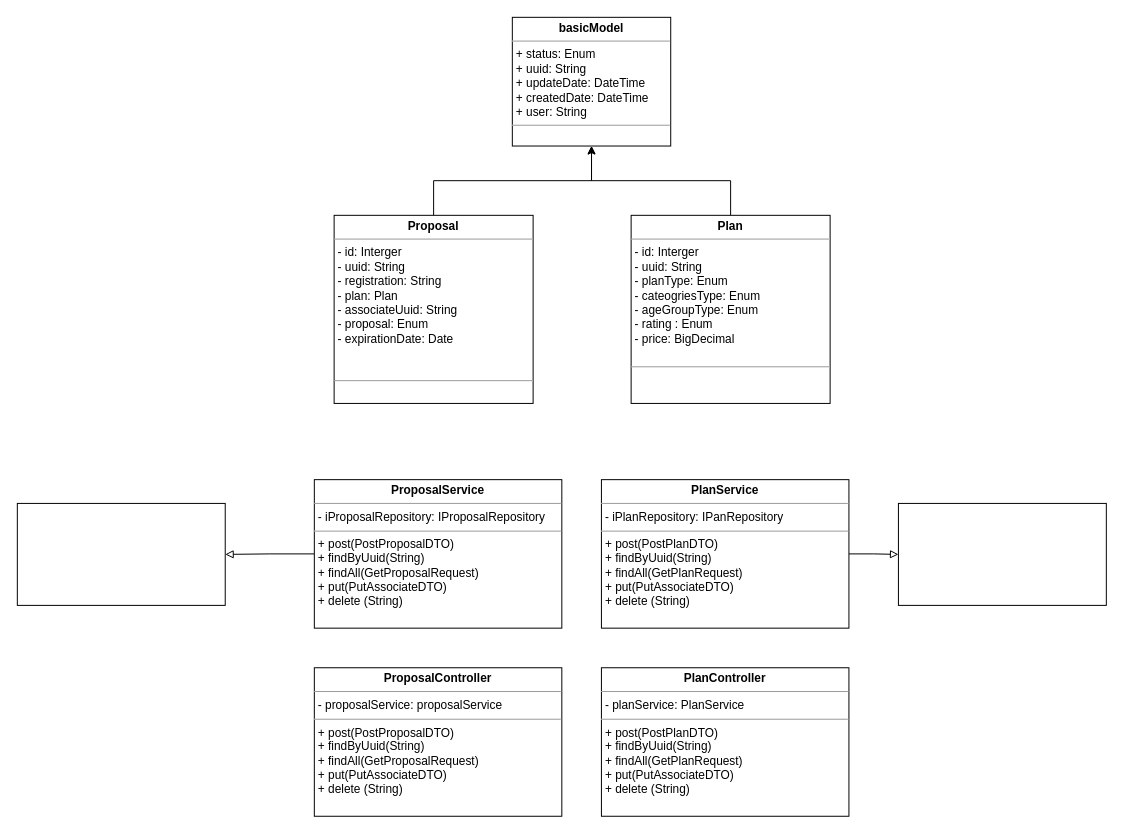
Image size: 1124x834. Some labels were removed from this diagram. The shapes that lost their labels are listed below. From the top down, each one's centre as x and y in pixels, then its label:
[120,553]: <<Interface>> IProposalRepository
[1001,553]: <<Interface>> IPlanRepository
